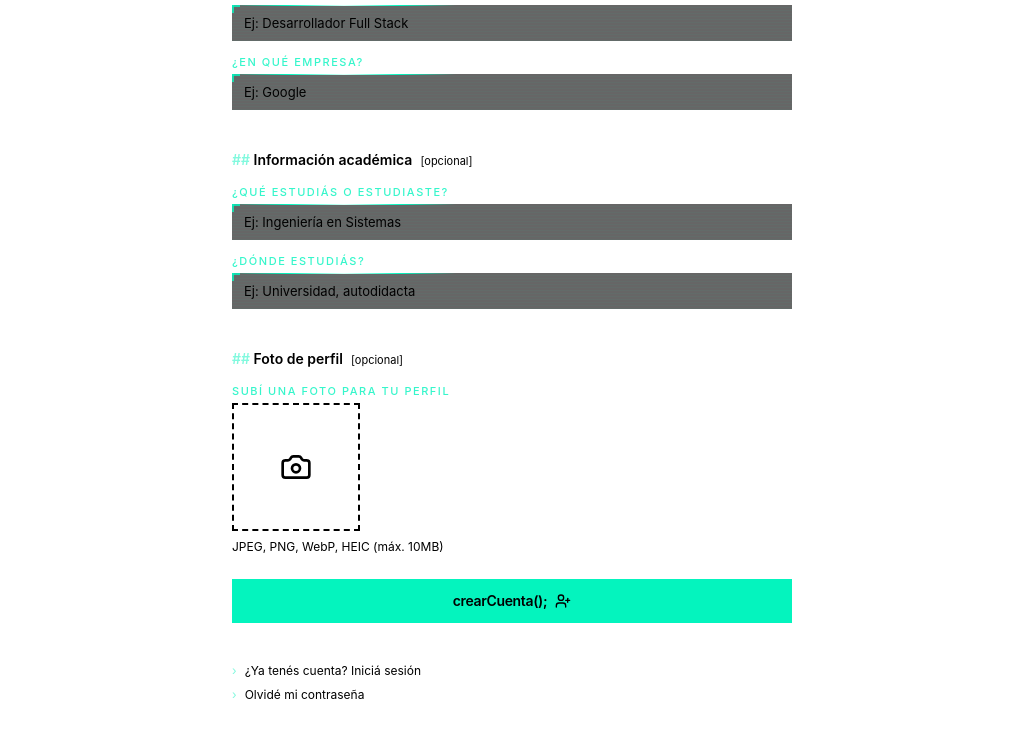
SignUpPage › validates the form and toasts the first error
(page scrolled)
Click the button "crearCuenta();" at (512, 601), box [232,579,792,623]
(page scrolled)
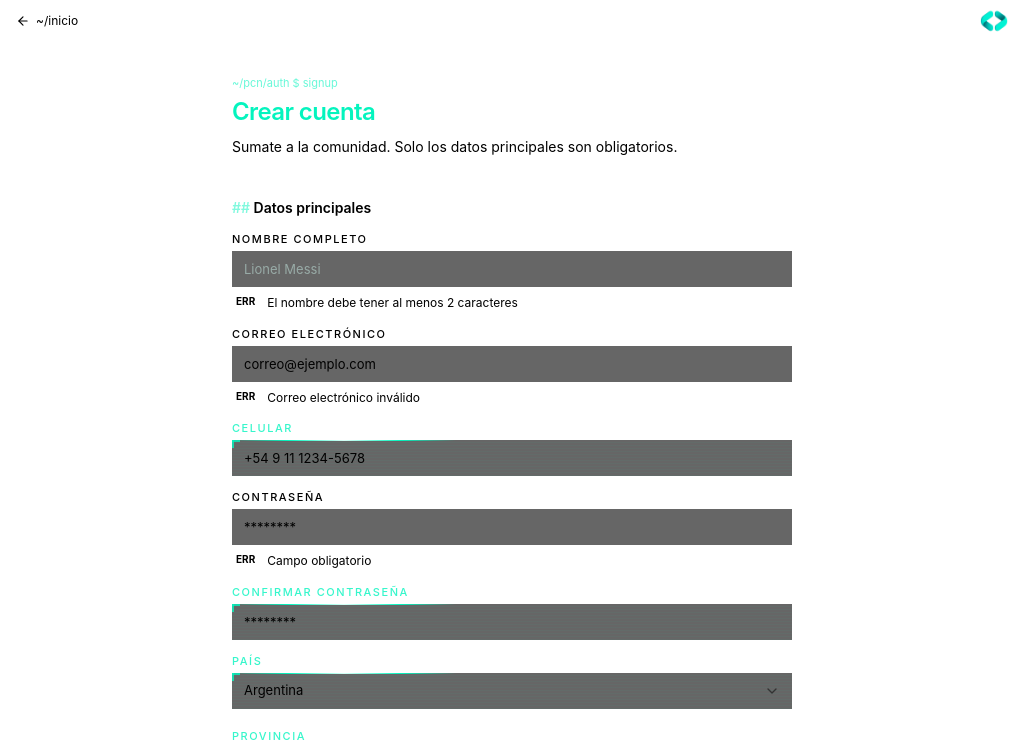
Expected: the text "El nombre debe tener al menos 2 caracteres" is shown, [267,293,518,313]
